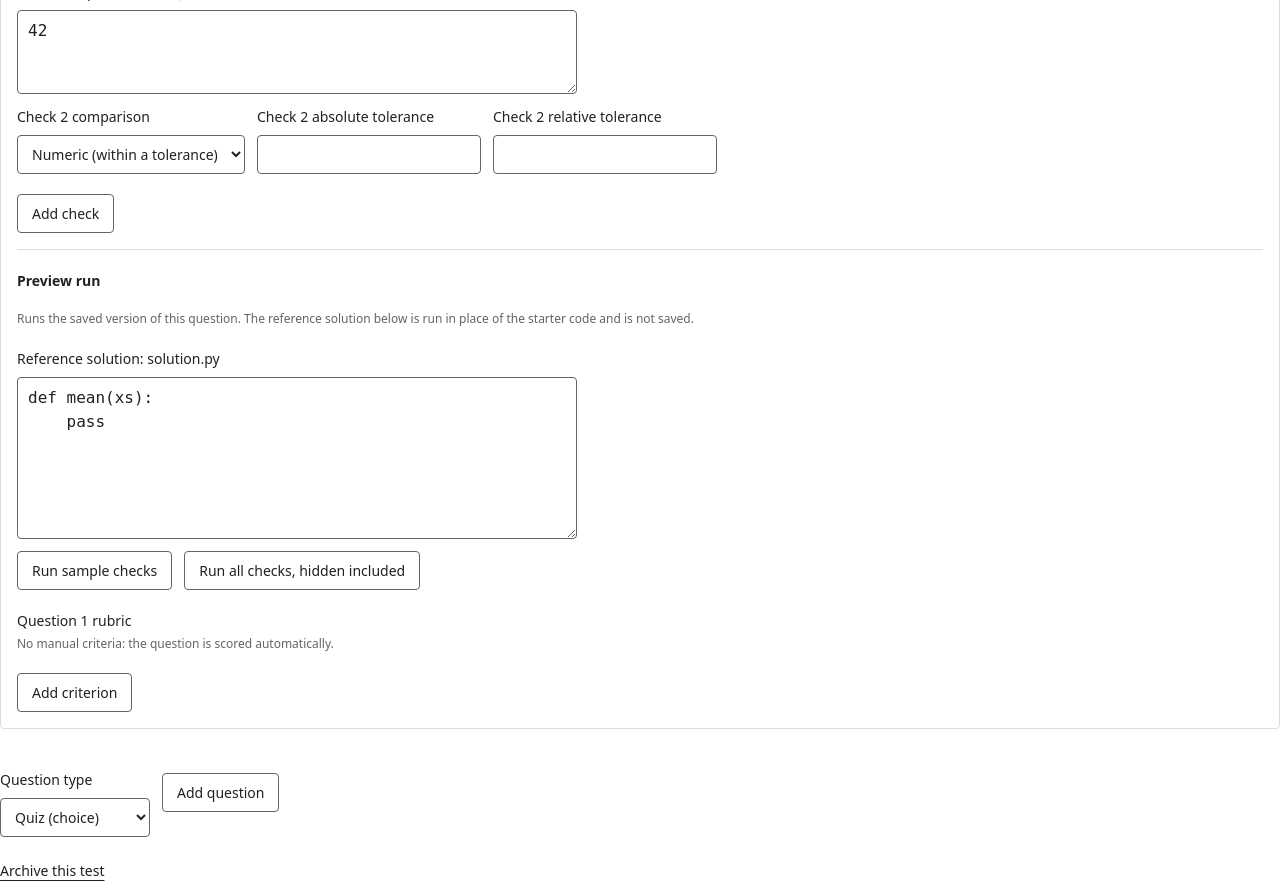
Test: test editor › runs all checks of the saved question and shows hidden checks as hidden
The width and height of the screenshot is (1280, 889).
(page scrolled)
What coordinates should you click on to do the following:
click the button "Run all checks, hidden included"
I would click on:
 (302, 570)
Its box is [184,551,420,590].
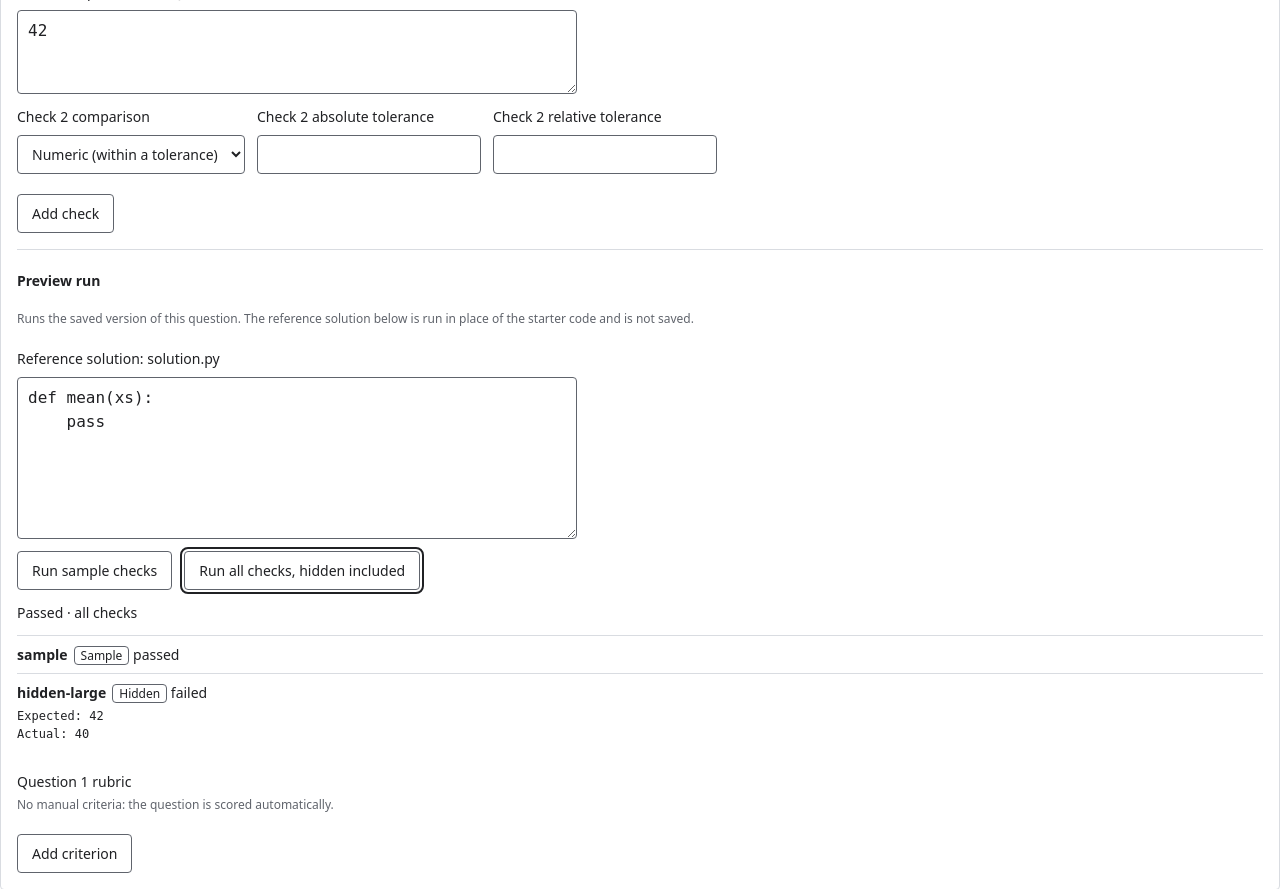
Expected: the text "Passed · all checks" is shown, [17,603,137,622]
Expected: the list item that starts with "hidden-large" is shown, [119,685,160,702]
Expected: the list item that starts with "hidden-large" shows "failed", [171,683,207,702]
